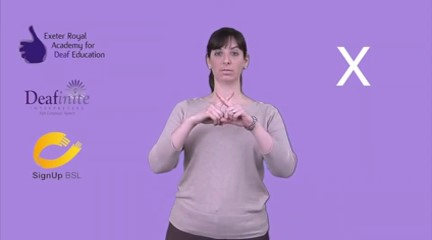X: (191, 85, 255, 135)
